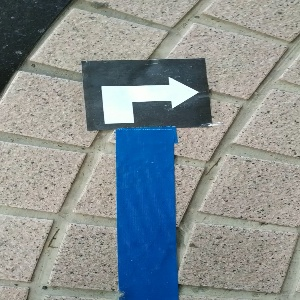right: (82, 59, 212, 128)
